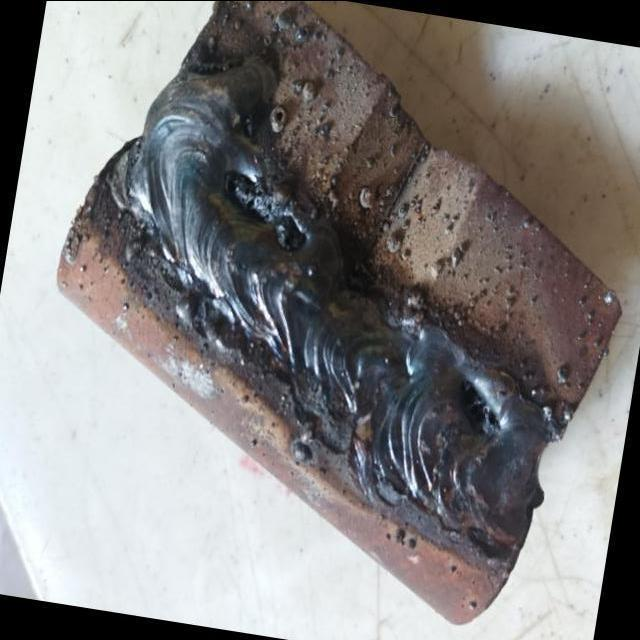defect: (221, 168, 303, 252), (457, 369, 504, 441)
